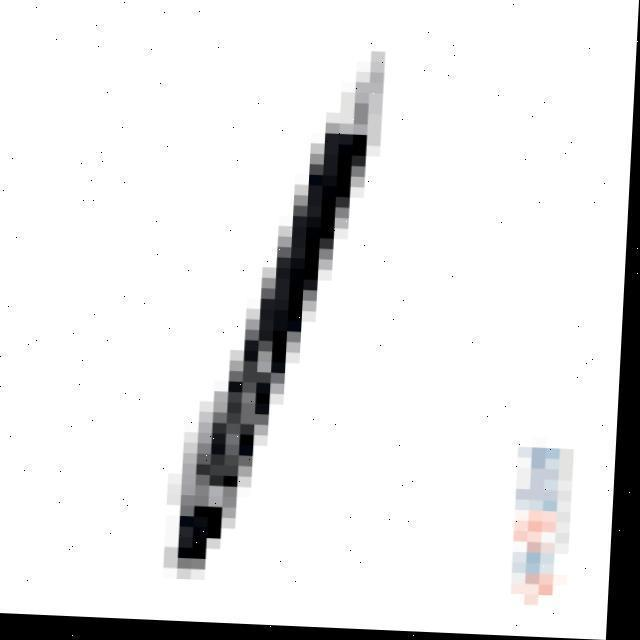pen: (170, 37, 387, 579)
